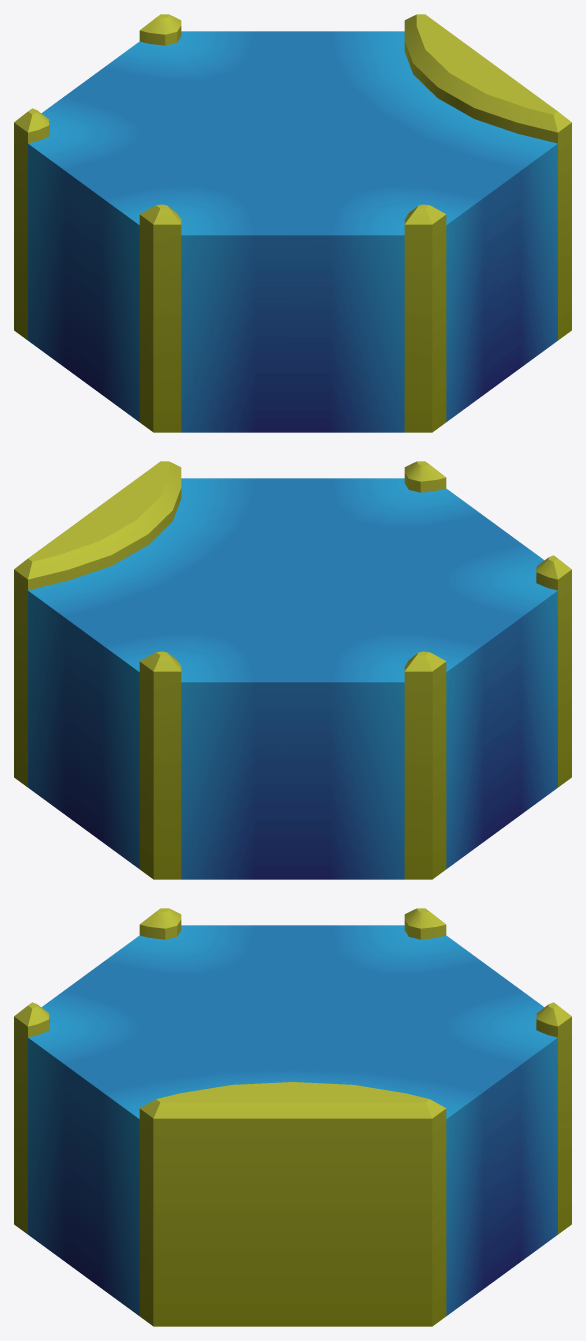
Rendered from kaykit-medieval-hexagon-pack-hex-river-k.glb.
3 renders of one model, top to bottom at view 1: azimuth 30°, elevation 25°; view 2: azimuth 150°, elevation 25°; view 3: azimuth 270°, elevation 25°, orthographic.
Visible parts, largest first — view 1: hex_river_K; view 2: hex_river_K; view 3: hex_river_K.
Part boxes in pixels (<box>): hex_river_K: <box>14,14,571,432</box>; hex_river_K: <box>14,461,571,879</box>; hex_river_K: <box>14,908,571,1326</box>.
Bounding box in the file's own units: 2 × 1 × 2.31.
Materials: 1 (1 with a texture image).
